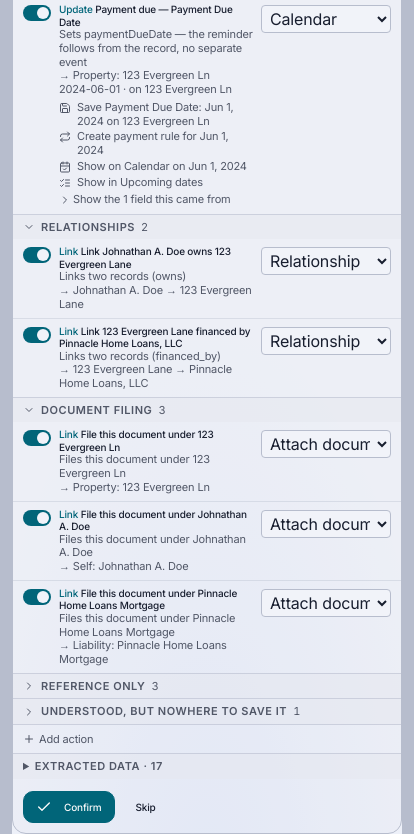
it: blocking warnings hold the write open › an action that needs a decision starts off and says why
(page scrolled)
Click the button with test id "action-group-toggle-unsupported": {"x": 207, "y": 712} 13,699 -> 401,724
(page scrolled)
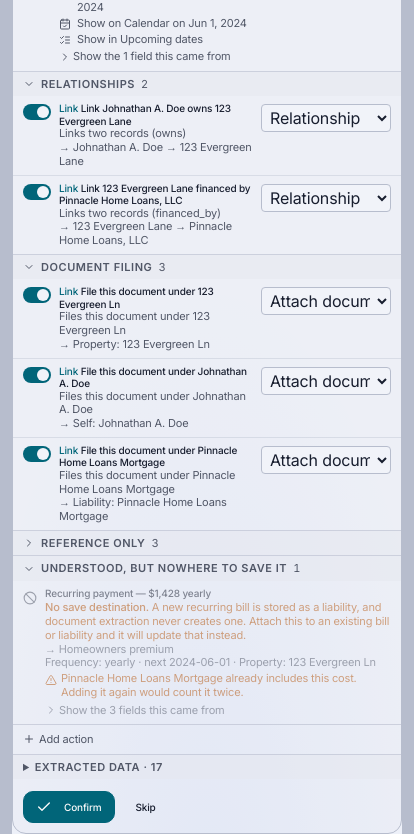
Expected: the element with test id "action-warning-" shows "already includes this cost", 61,671 -> 357,699
